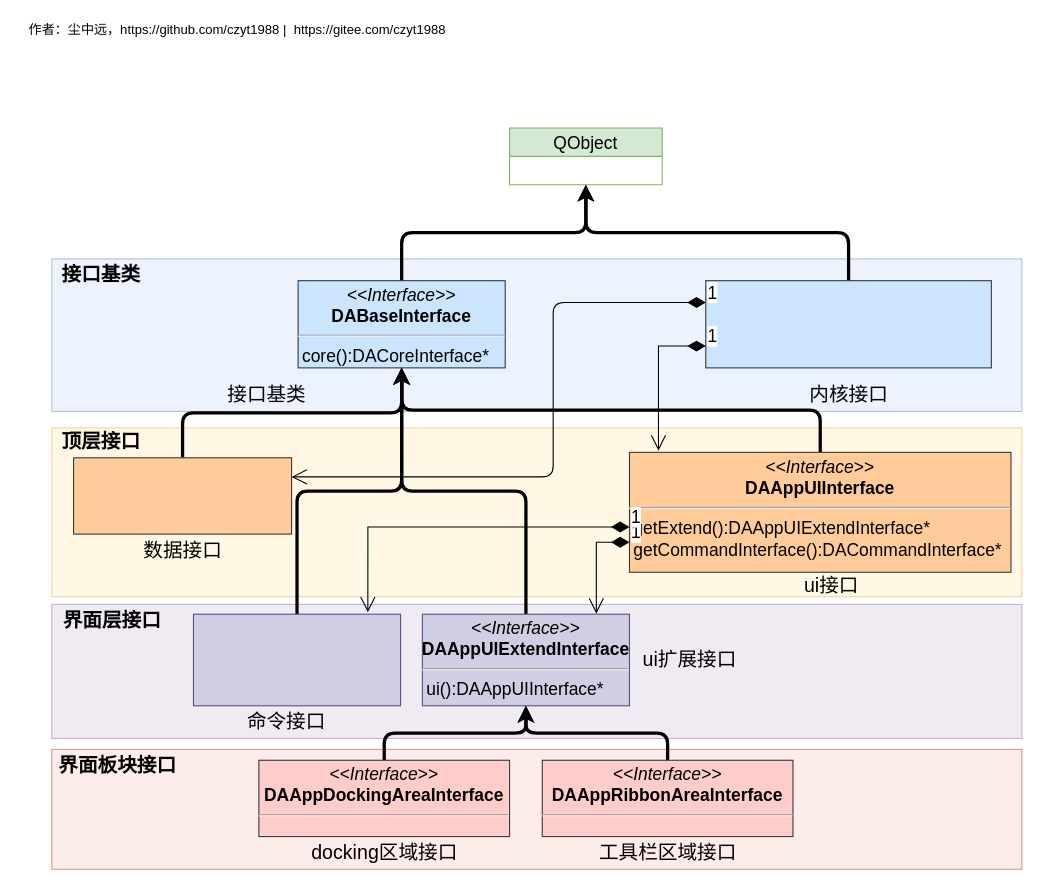
The diagram is 1041 pixels wide and 888 high, and some of its shapes have lost their labels. The shapes that lost their labels are listed below. From the top down, each one's box as (x1, y1, x2, y2) in pixels, then its label:
(705, 280, 991, 368): <<Interface>> DACoreInterface getUiInterface():DAAppUIInterface*
(72, 457, 292, 534): <<Interface>> DADataManagerInterface
(192, 613, 401, 706): <<Interface>> DACommandInterface ui():DAAppUIInterface*
